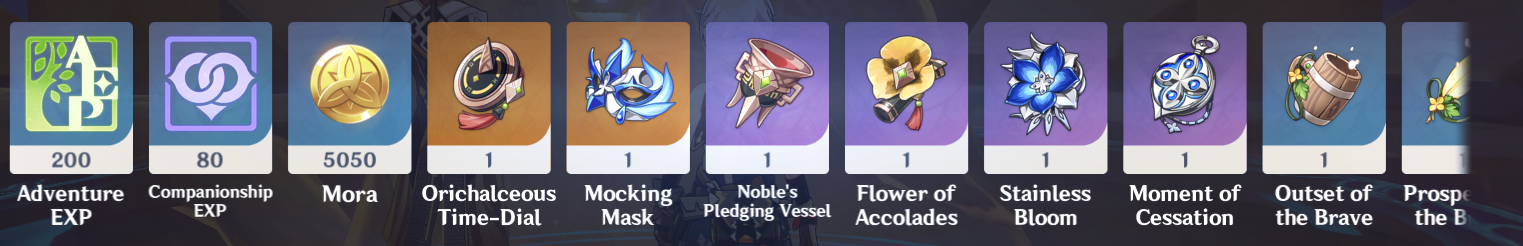3 star artifact: (1260, 17, 1392, 185)
4 star artifact: (979, 15, 1113, 182), (703, 17, 838, 182), (1121, 17, 1252, 180), (838, 15, 970, 176)
5 star artifact: (422, 17, 555, 180), (563, 17, 696, 180)
